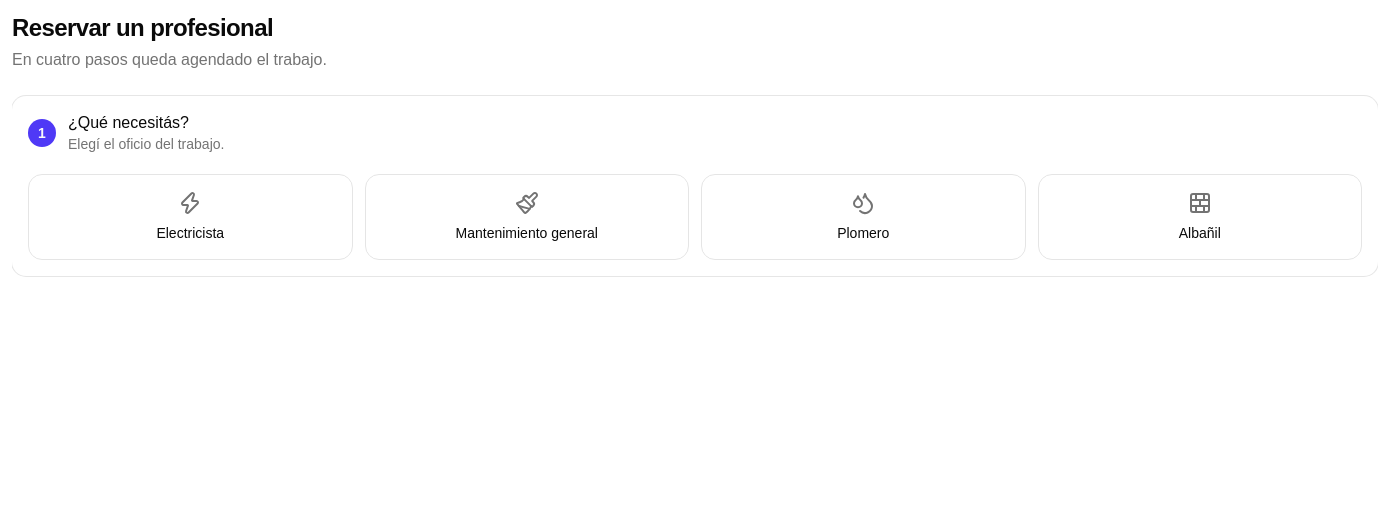
it: Booking › shows ratings and loads more tradesmen page by page
This screenshot has width=1378, height=530.
Step 1. Click the button "Plomero" → click(863, 217), box [701,174,1026,260]
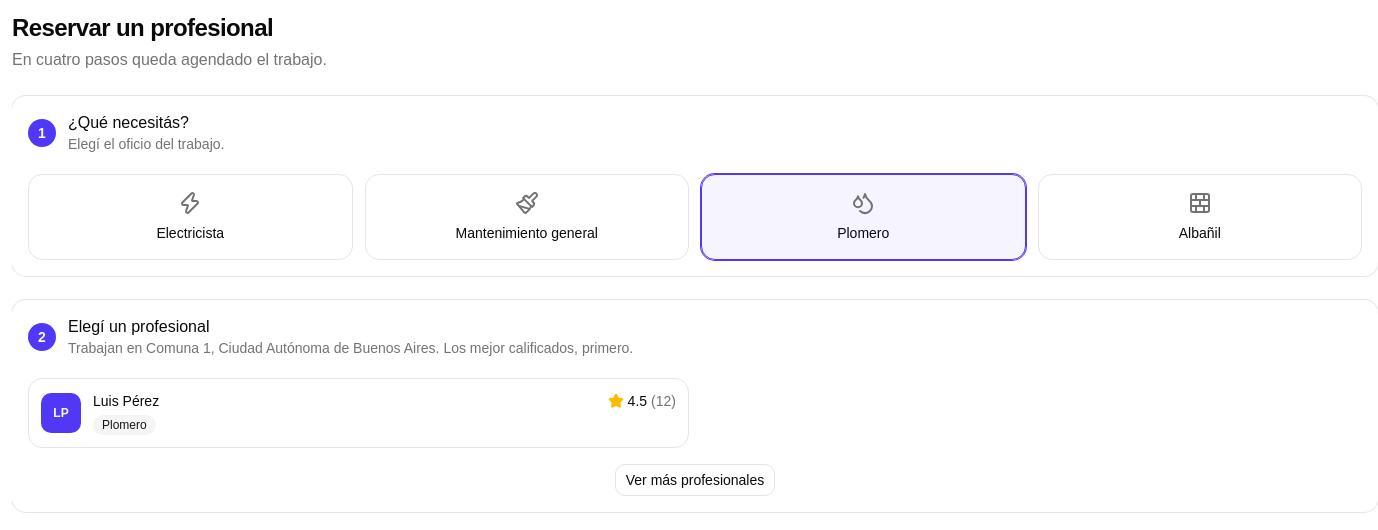
Expected: the element named "4.5 de 5, 12 calificaciones" is shown, [608,391,676,411]
Step 2. Click the button "Ver más profesionales" → click(695, 480), box [615,464,775,496]
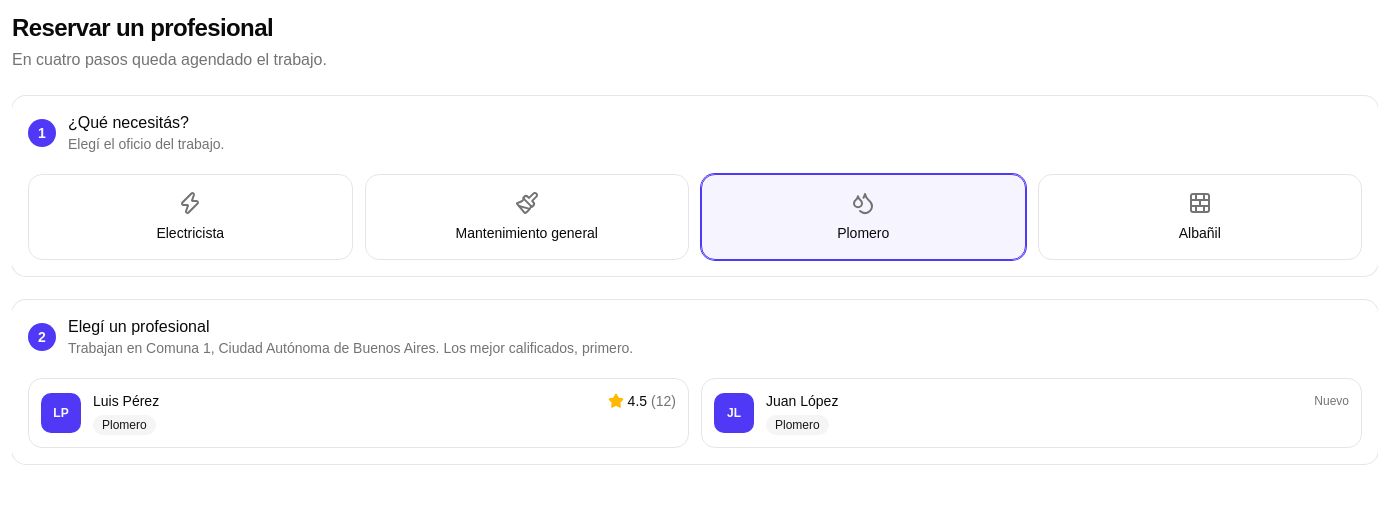
Expected: the button "Juan López" shows "Nuevo", [701,378,1362,448]
Expected: the button "Ver más profesionales" is gone
